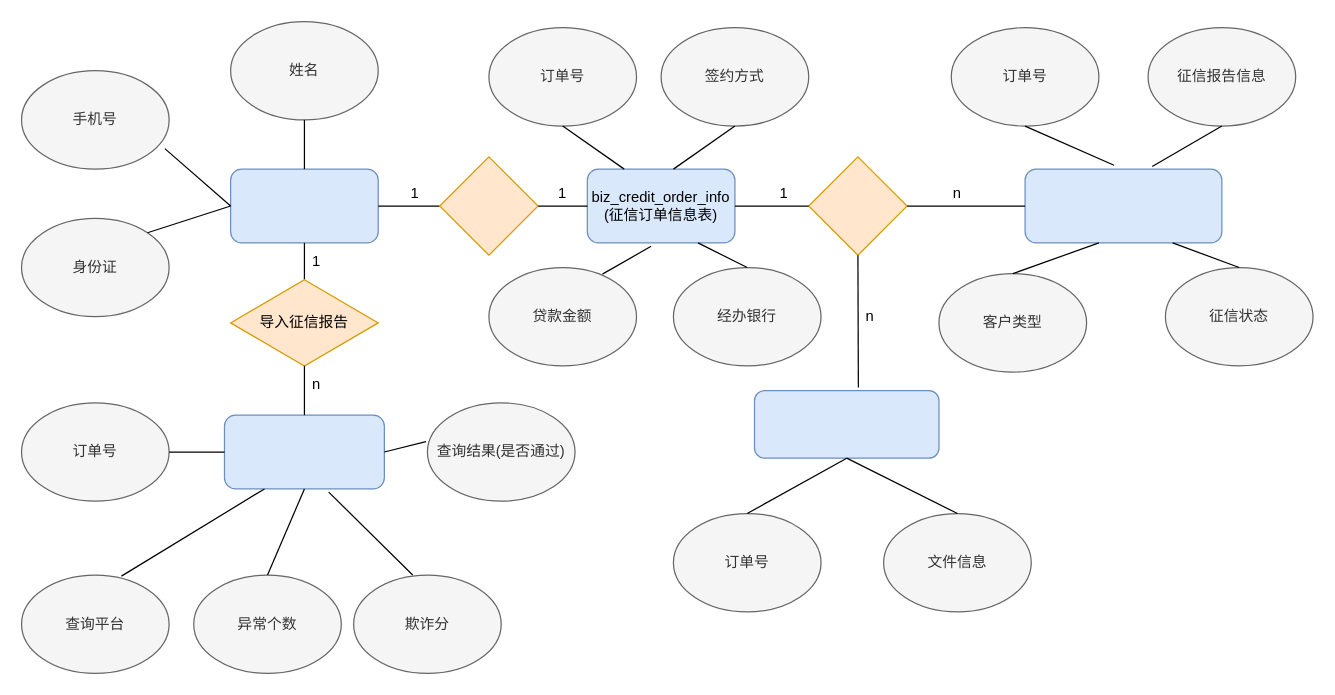
The diagram is 1335 pixels wide and 695 high, and some of its shapes have lost their labels. Here are the shapes that lost their labels. From the top down, the centre of each, then its label:
At (x=303, y=205): "biz_customer (客户表)".
At (x=488, y=205): "征信查询".
At (x=857, y=205): "包含".
At (x=1123, y=205): "biz_credit_customer_info (征信查询客户信息表)".
At (x=846, y=423): "rel_credit_customer_files (征信上传文件信息表)".
At (x=303, y=451): "inf_credit_platform (征信查询结果明细表)".
